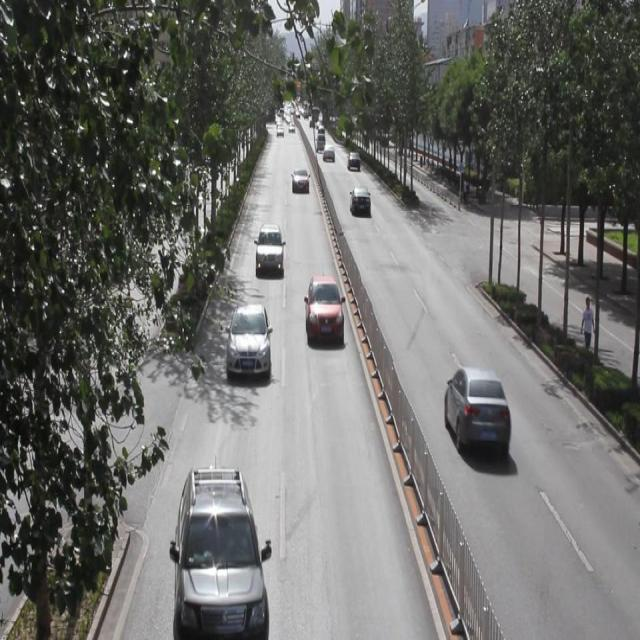car: (174, 466, 268, 640), (444, 366, 510, 451), (226, 302, 271, 376), (304, 274, 344, 346), (255, 223, 283, 274), (349, 186, 370, 218), (290, 168, 310, 193), (347, 150, 360, 170), (322, 142, 334, 162)
truck: (316, 132, 325, 150)
